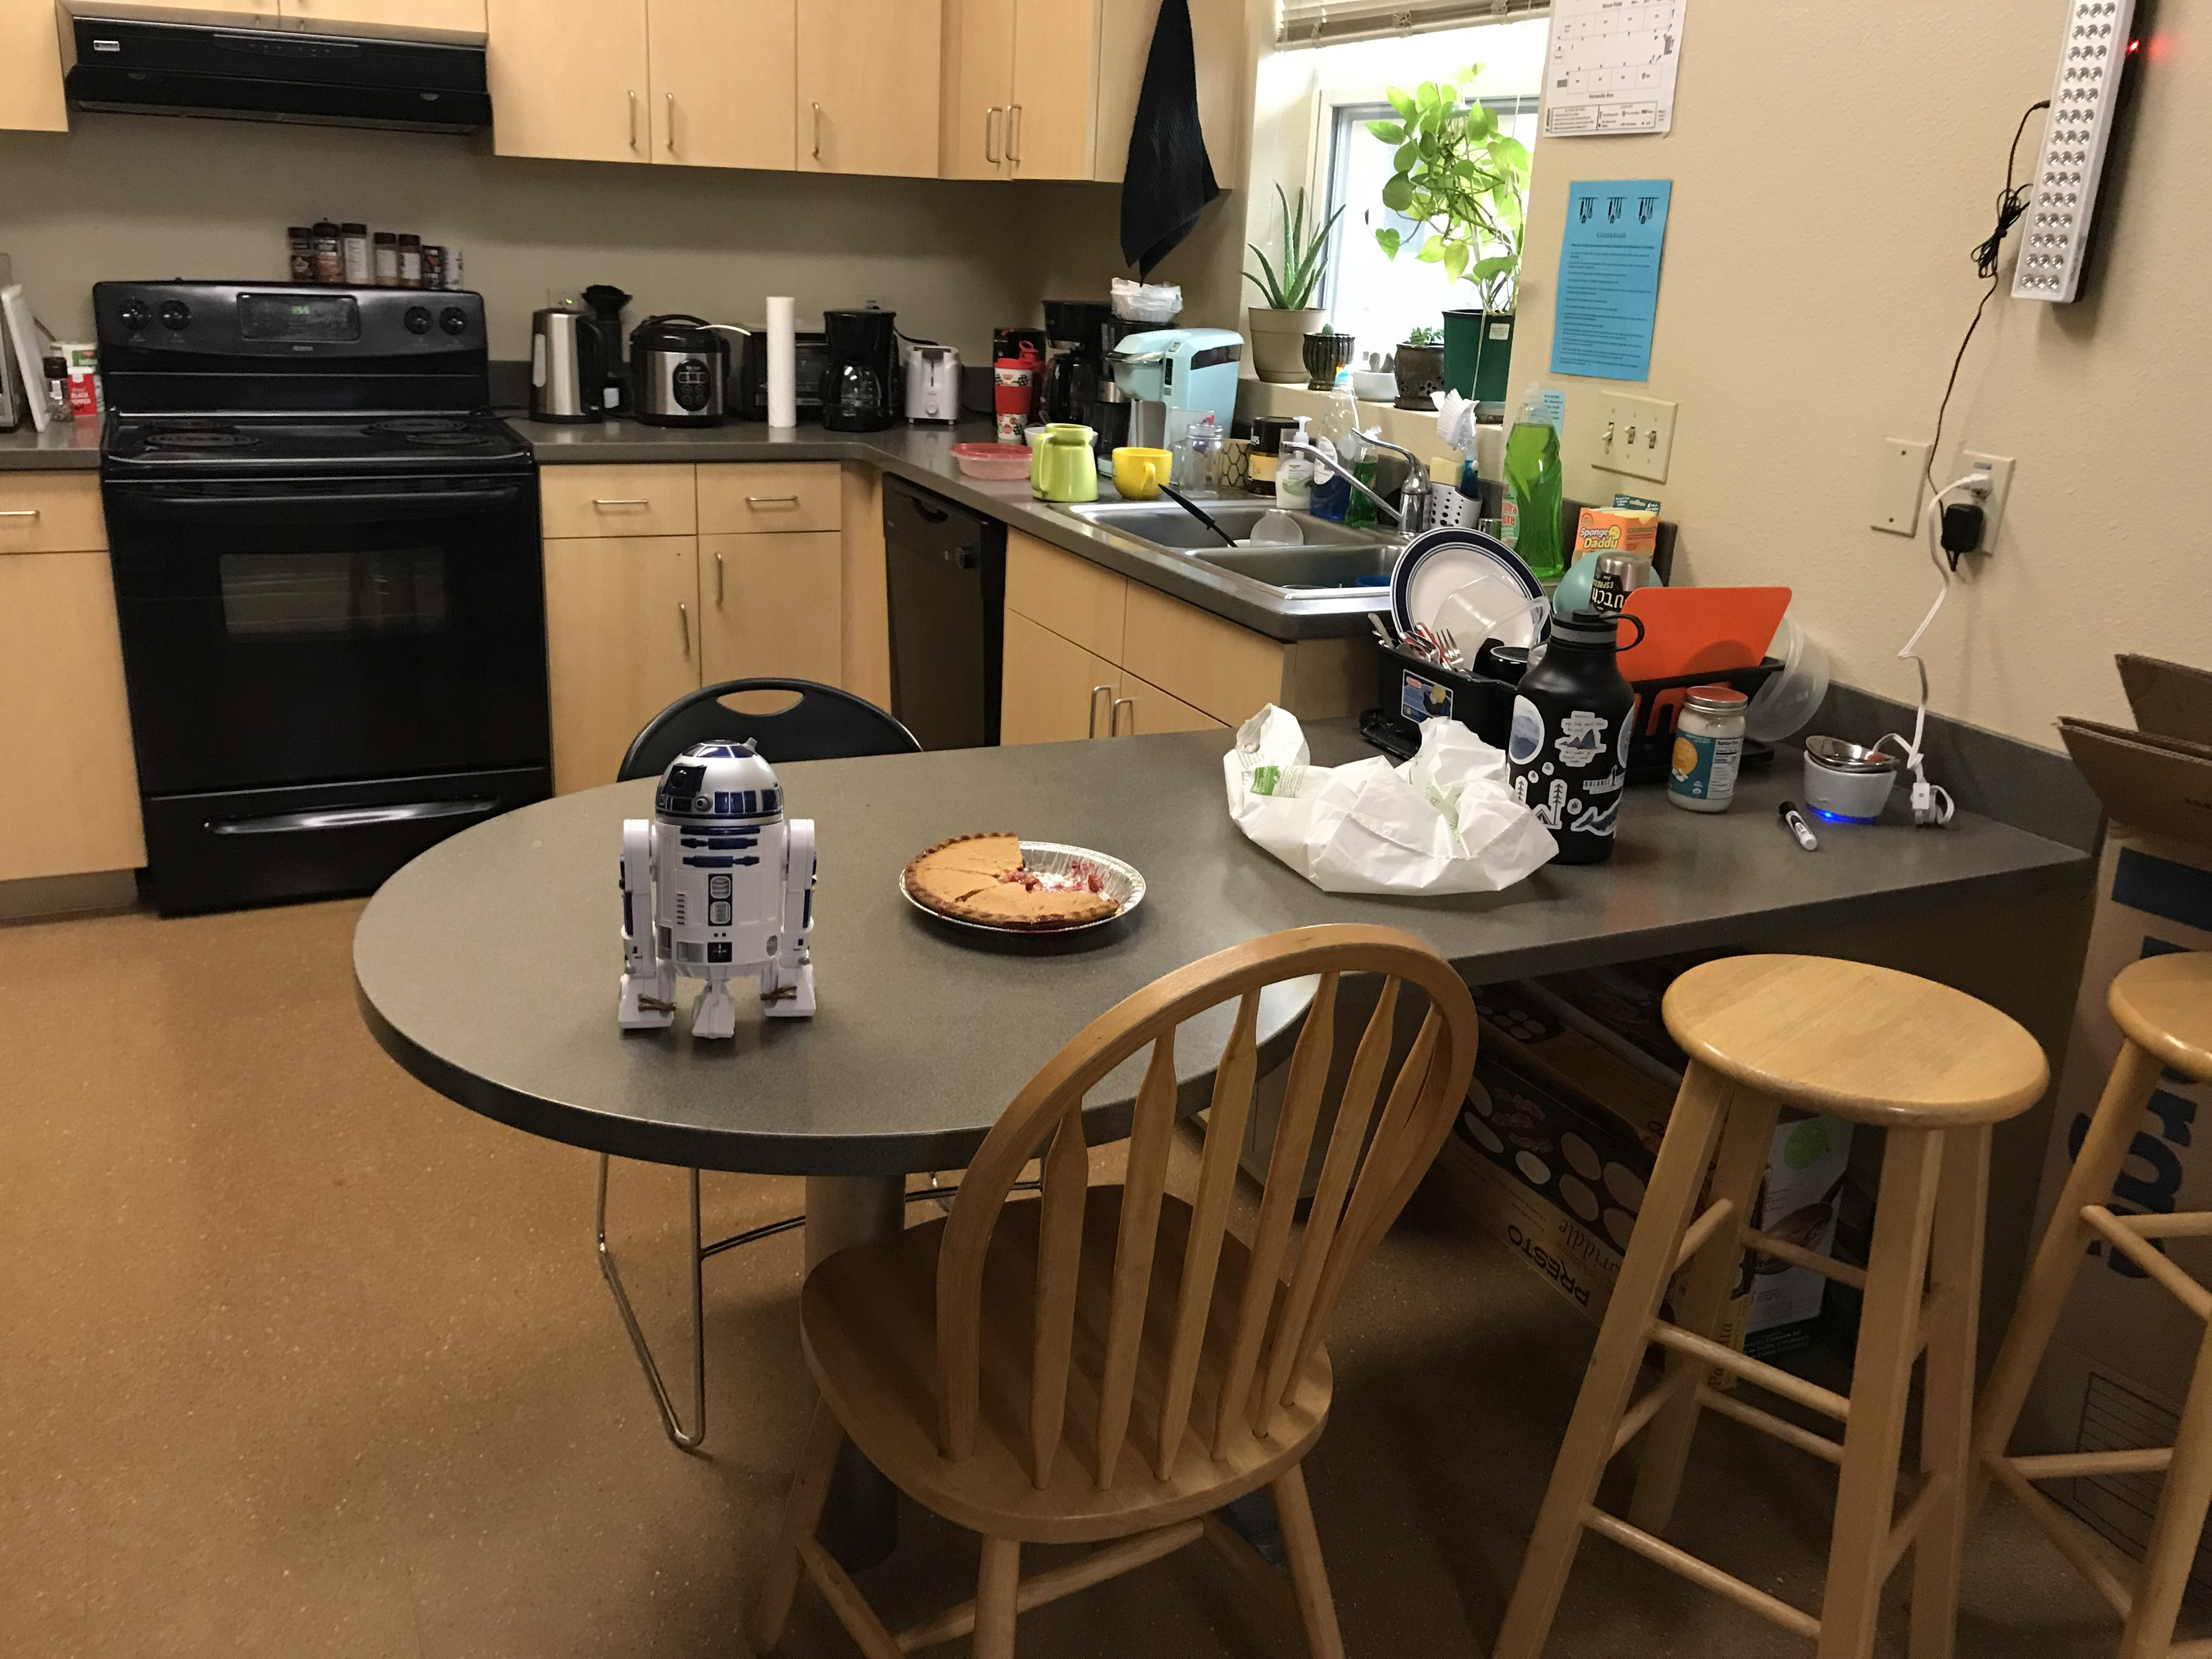r2d2: (617, 735, 819, 1042)
